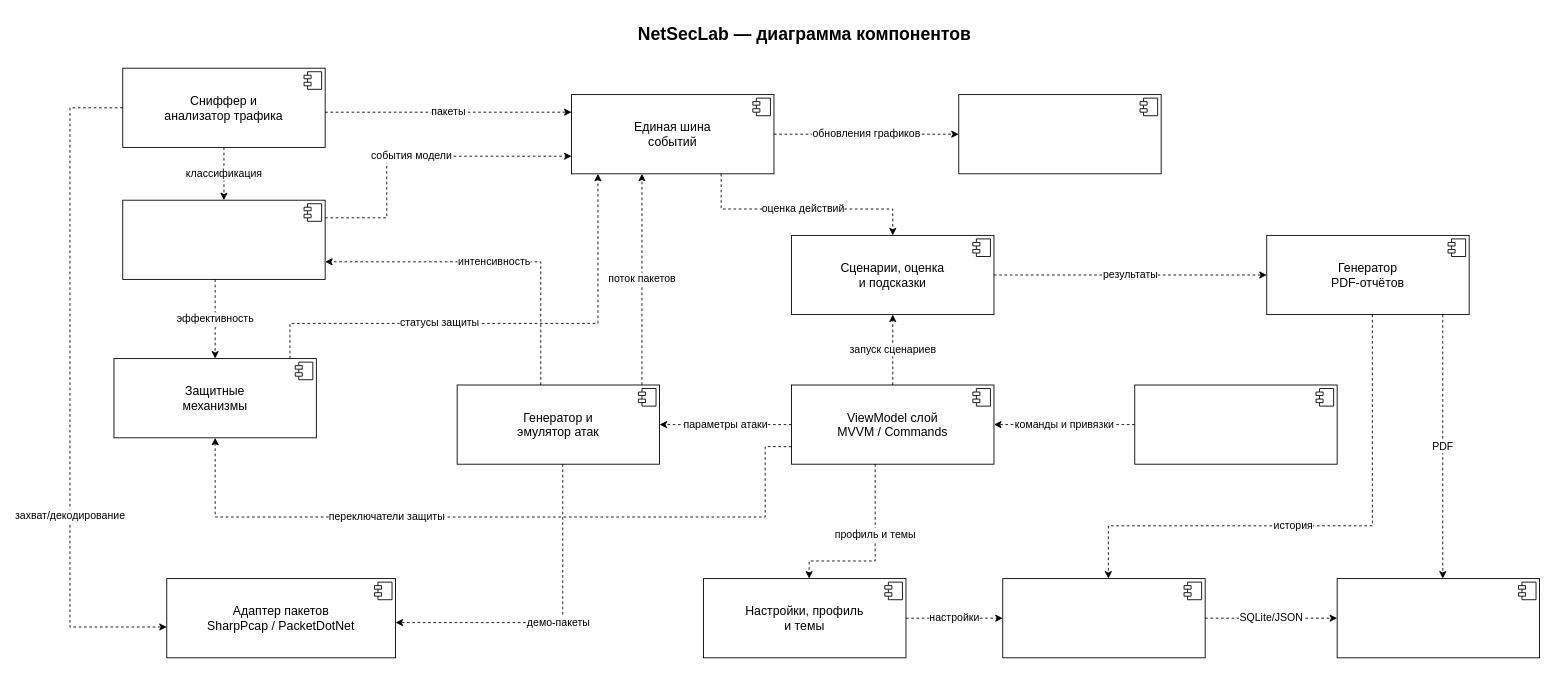
The diagram is 1555 pixels wide and 673 high, and some of its shapes have lost their labels. Each missing label, with the centre of its shape:
"Визуализация LiveCharts2" goes at [1059,134].
"Локальная файловая система" goes at [1438,618].
"Пользовательский интерфейс Avalonia UI" goes at [1235,424].
"Слой данных SQLite / JSON" goes at [1103,618].
"Стохастическое ядро симуляции" goes at [223,239].
